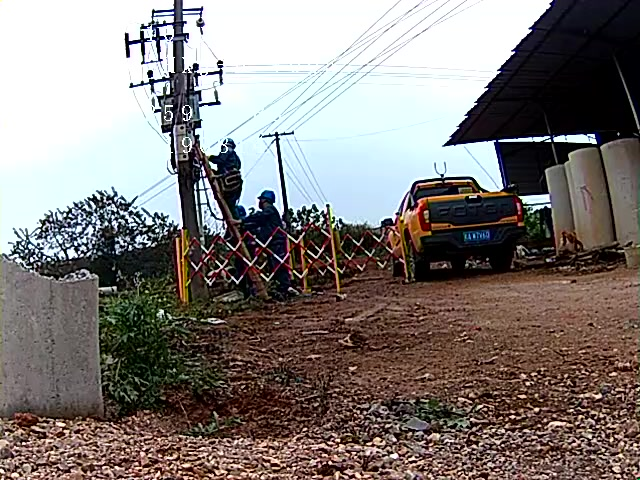halt: (259, 192, 278, 211), (224, 140, 238, 154)
